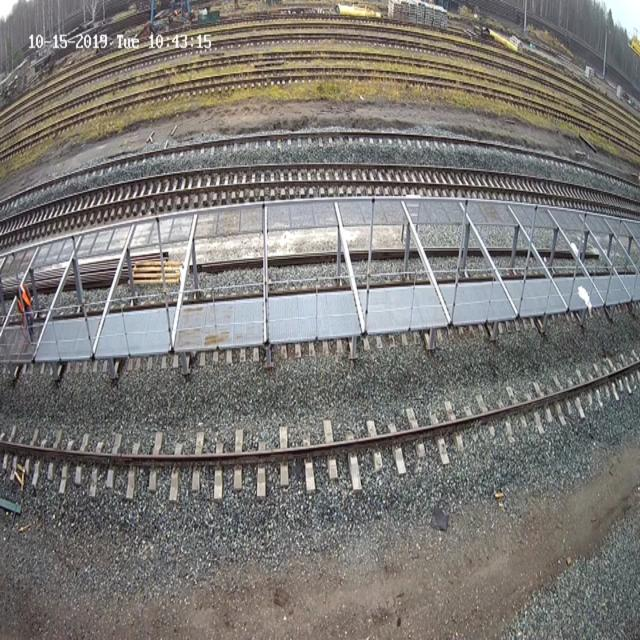Person: (18, 280, 35, 344)
